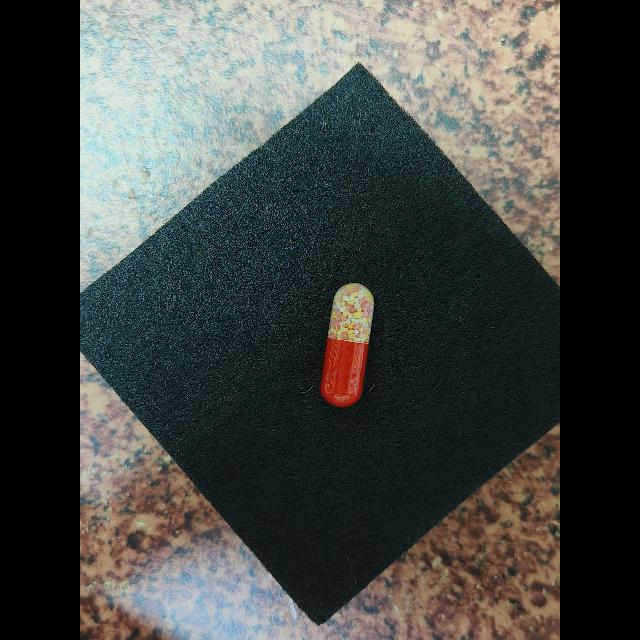Intact Capsule: (321, 282, 374, 407)
